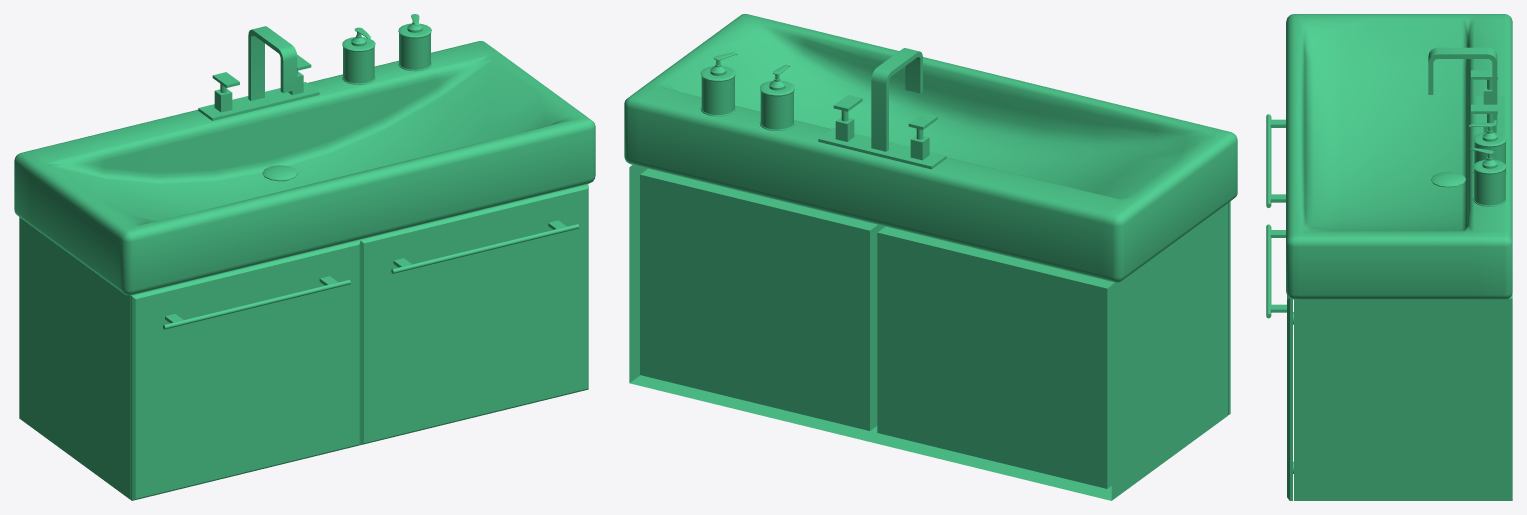
The model's file is Bathroom_Washer.fbx.
The picture shows the model from 3 angles, left to right: view 1: azimuth 30°, elevation 25°; view 2: azimuth 150°, elevation 25°; view 3: azimuth 270°, elevation 25°; orthographic projection. The views are drawn at different scales.
Visible parts, largest first — view 1: SM_Washer, SM_Soap_1, SM_Soap_2; view 2: SM_Washer, SM_Soap_2, SM_Soap_1; view 3: SM_Washer, SM_Soap_2, SM_Soap_1.
Part boxes in pixels (box(x1,y1,x2,y2)): SM_Washer: box(14, 26, 595, 500); SM_Soap_1: box(342, 27, 375, 84); SM_Soap_2: box(398, 14, 431, 71); SM_Washer: box(624, 14, 1237, 500); SM_Soap_2: box(700, 52, 737, 116); SM_Soap_1: box(759, 64, 794, 130); SM_Washer: box(1266, 14, 1512, 500); SM_Soap_2: box(1470, 148, 1506, 206); SM_Soap_1: box(1469, 123, 1506, 174).
Size of the model in its own units: 133 by 92.27 by 60.7.
